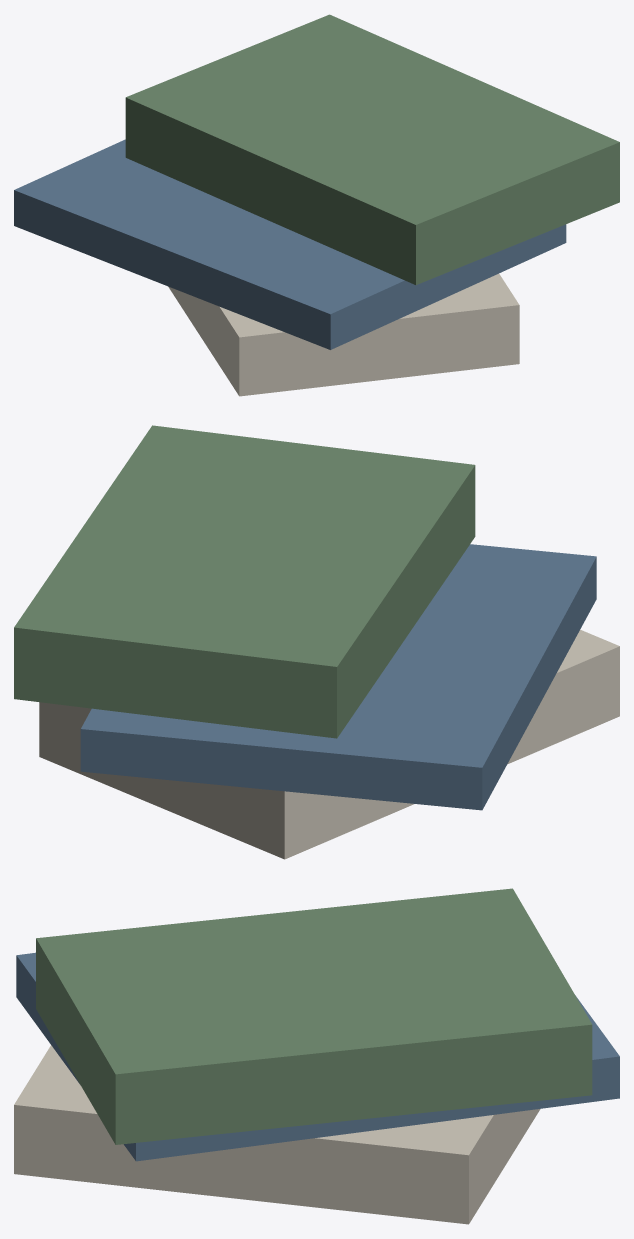
The model's file is mov_6fac388659.gltf.
3 views of the same model, one above another, from view 1: azimuth 30°, elevation 25°; view 2: azimuth 150°, elevation 25°; view 3: azimuth 270°, elevation 25° (orthographic). The views are drawn at different scales.
Parts seen in each view (by area): view 1: mov_6fac388659; view 2: mov_6fac388659; view 3: mov_6fac388659.
Part boxes in pixels (left/top/right/bottom): mov_6fac388659: left=14, top=14, right=619, bottom=396; mov_6fac388659: left=14, top=425, right=619, bottom=859; mov_6fac388659: left=14, top=888, right=619, bottom=1224.
Bounding box in the file's own units: 0.3333 × 0.1119 × 0.3377.
